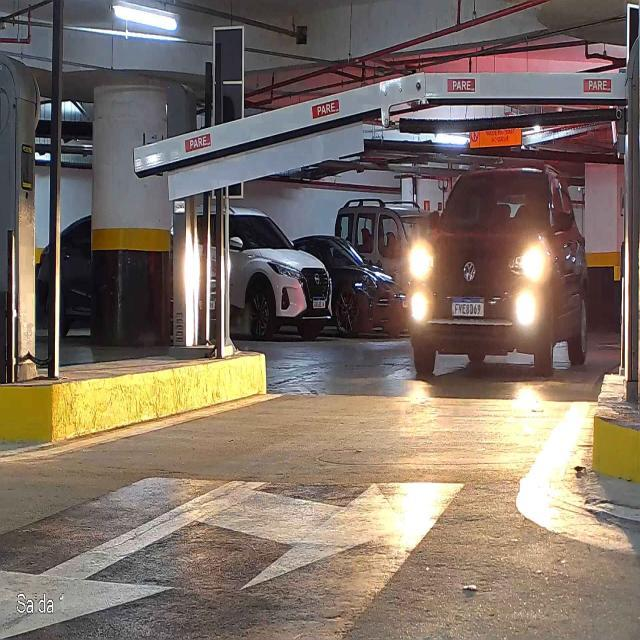mercosul_plate: (450, 296, 486, 317)
